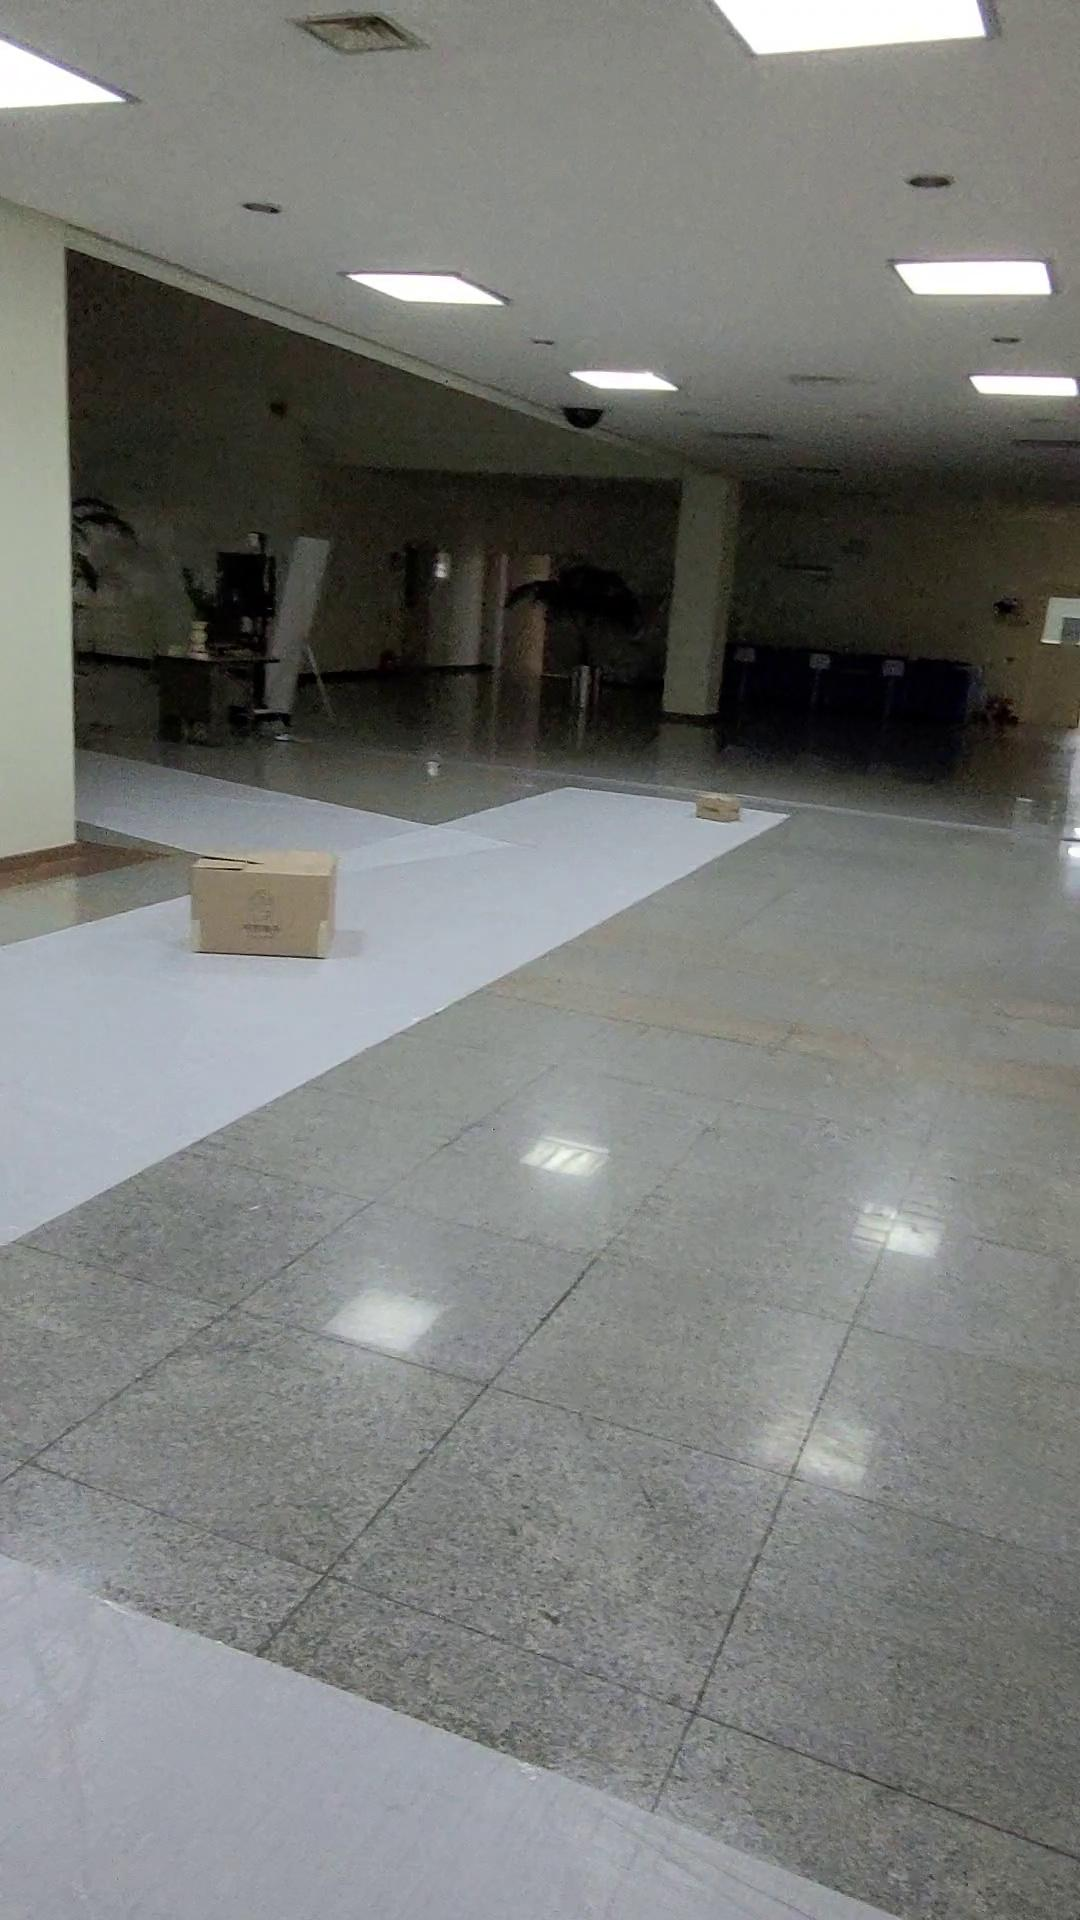Box: (127, 825, 388, 1005), (673, 778, 771, 855)
